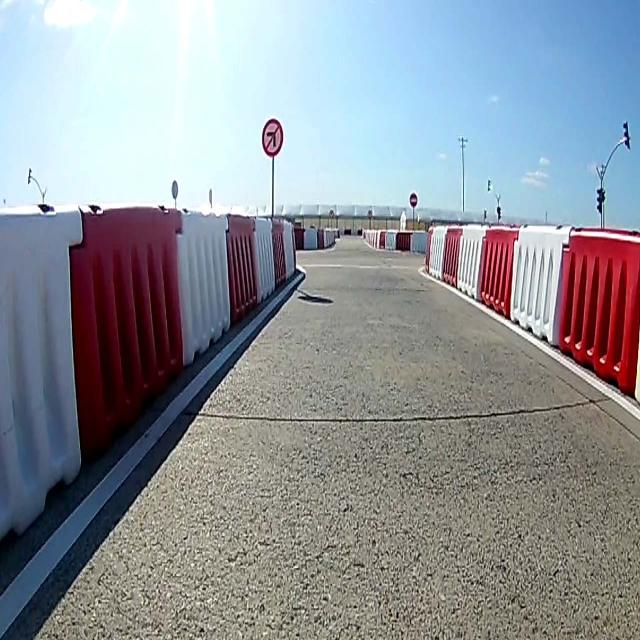girisyok: (409, 191, 418, 208)
soladonulmez: (261, 118, 283, 158)
